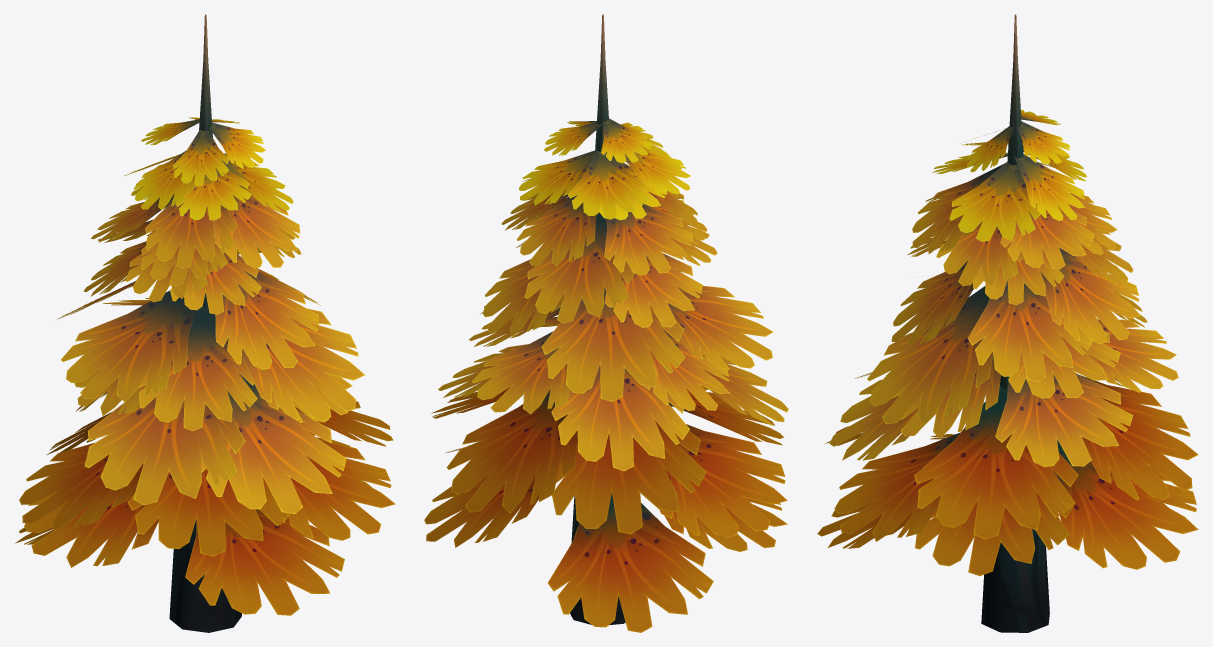
The model's file is yellow_pine02.fbx.
The picture shows the model from 3 angles, left to right: view 1: azimuth 30°, elevation 25°; view 2: azimuth 150°, elevation 25°; view 3: azimuth 270°, elevation 25°; orthographic projection.
Parts seen in each view (by area): view 1: yellow_pine02; view 2: yellow_pine02; view 3: yellow_pine02.
Part boxes in pixels (left/top/right/bottom): yellow_pine02: left=15, top=14, right=395, bottom=632; yellow_pine02: left=424, top=14, right=788, bottom=632; yellow_pine02: left=817, top=14, right=1198, bottom=632.
Bounding box in the file's own units: 163 × 274 × 157.
1 material, 1 textured.
